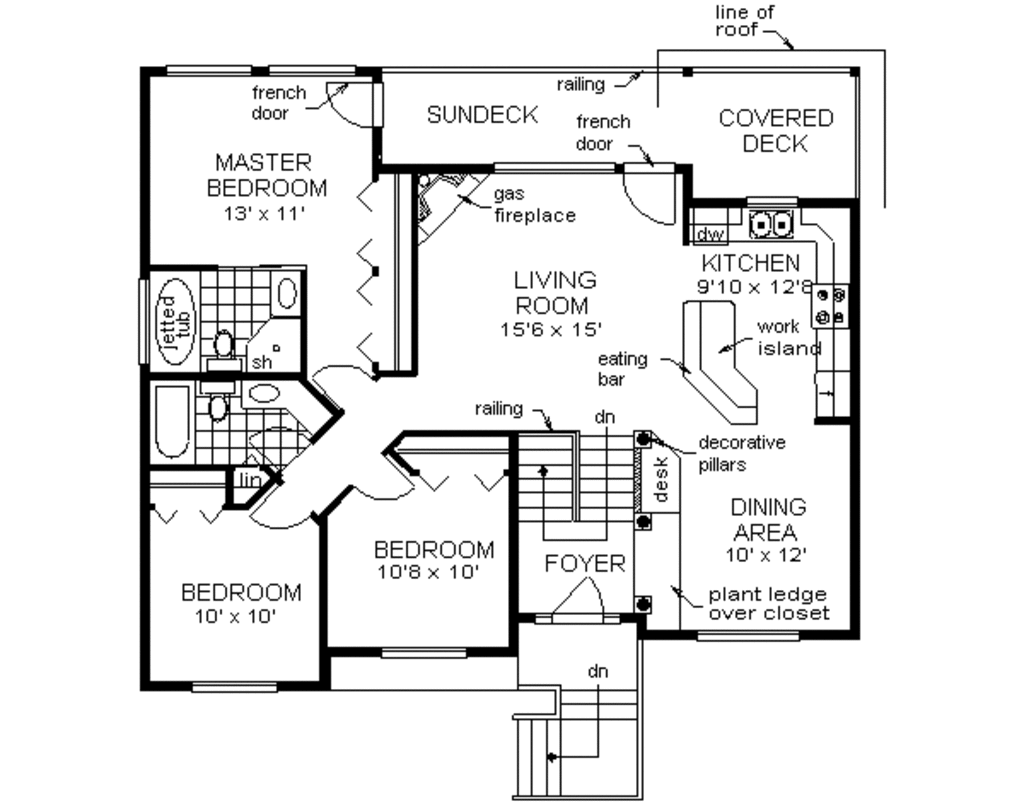door: (342, 446, 420, 513), (619, 156, 684, 227), (549, 573, 619, 637), (319, 76, 396, 128), (242, 483, 318, 535), (307, 359, 381, 412)
kitchen_bar: (672, 292, 779, 441)
large_sink: (197, 378, 239, 431), (205, 329, 244, 378)
small_sink: (264, 258, 304, 322), (244, 377, 289, 407)
stairs: (511, 418, 644, 566), (507, 681, 654, 804)
tub: (148, 374, 204, 473)
twin_sink: (740, 194, 800, 246)
window: (179, 676, 288, 701), (697, 624, 806, 646), (380, 640, 474, 663), (162, 61, 253, 80), (267, 61, 360, 78)
